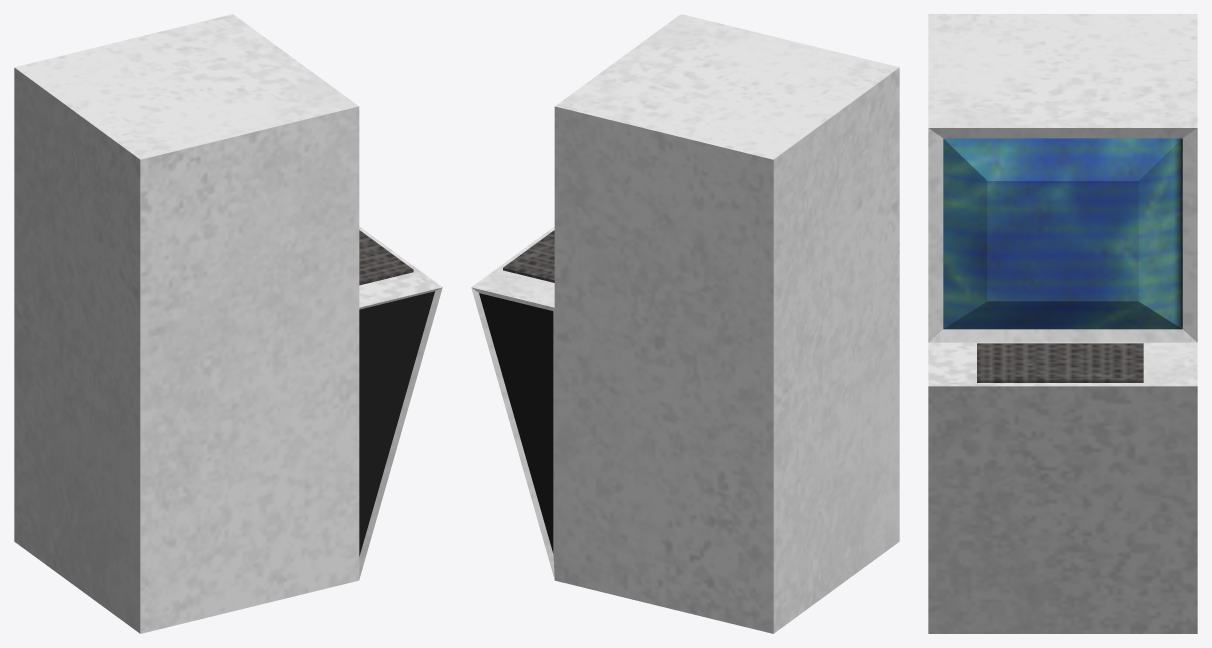
Rendered from upgradeStation.glb.
3 views of the same model, side by side, from view 1: azimuth 30°, elevation 25°; view 2: azimuth 150°, elevation 25°; view 3: azimuth 270°, elevation 25° (orthographic). The views are drawn at different scales.
Parts seen in each view (by area): view 1: Cube; view 2: Cube; view 3: Cube.
Boxes of the visible parts, x1,y1,x2,y2 form: Cube: (14, 14, 442, 633); Cube: (471, 14, 899, 633); Cube: (928, 14, 1197, 633).
Size of the model in its own units: 2.76 by 4.14 by 2.
Materials: 4 (4 with a texture image).
